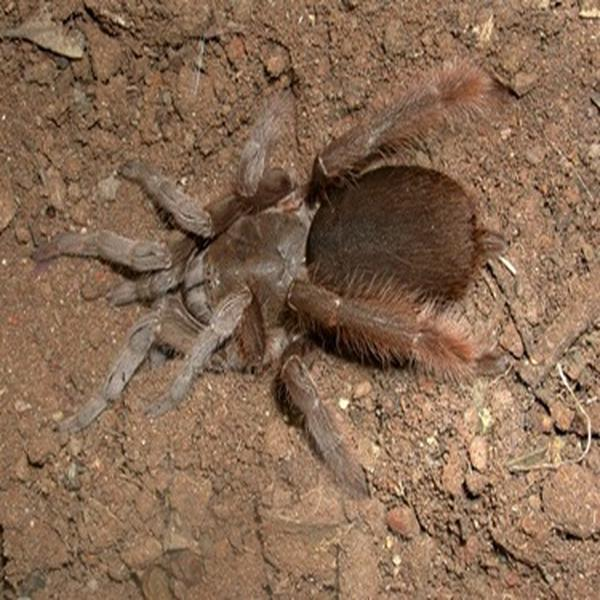Tarantula Spider: (71, 78, 493, 478)
